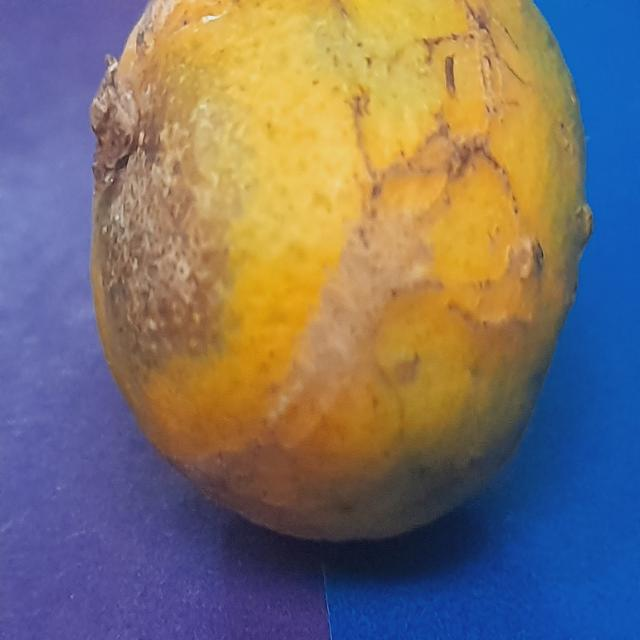thrips: (81, 21, 596, 576)
